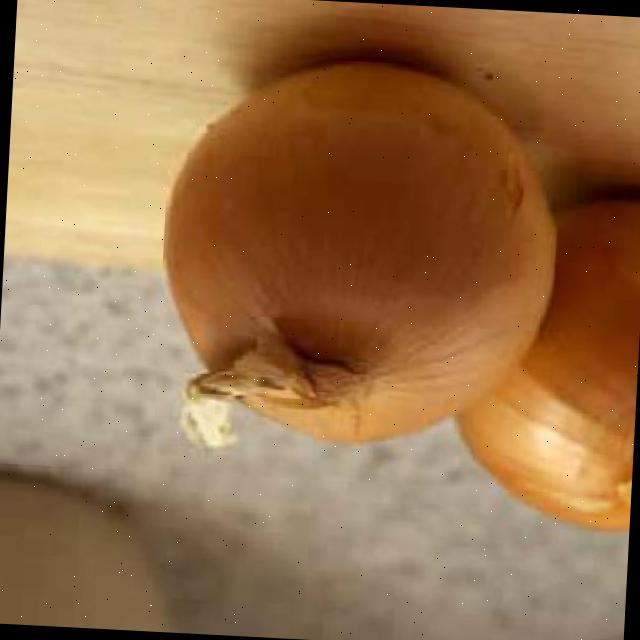Onion: (163, 61, 554, 442), (456, 199, 640, 532)
